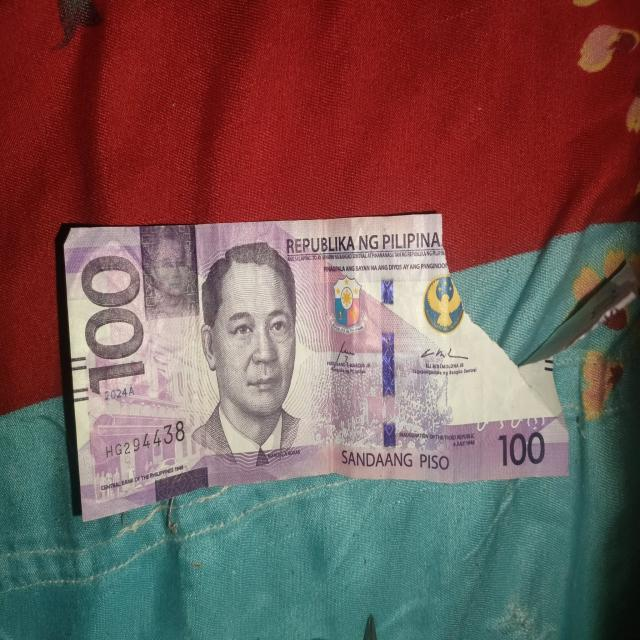broken: (54, 211, 573, 518)
torn: (427, 194, 592, 418)
